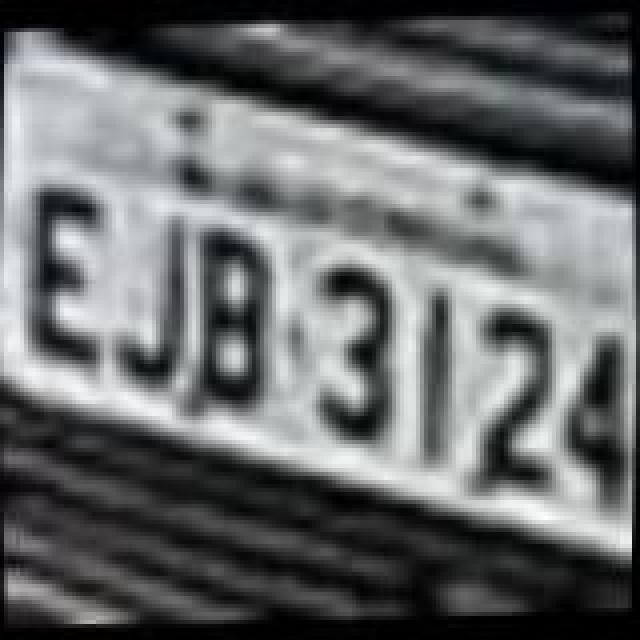1: (408, 286, 468, 474)
2: (474, 302, 558, 498)
3: (306, 256, 410, 452)
4: (556, 324, 636, 524)
B: (194, 224, 282, 416)
E: (22, 176, 118, 376)
J: (102, 204, 198, 392)
